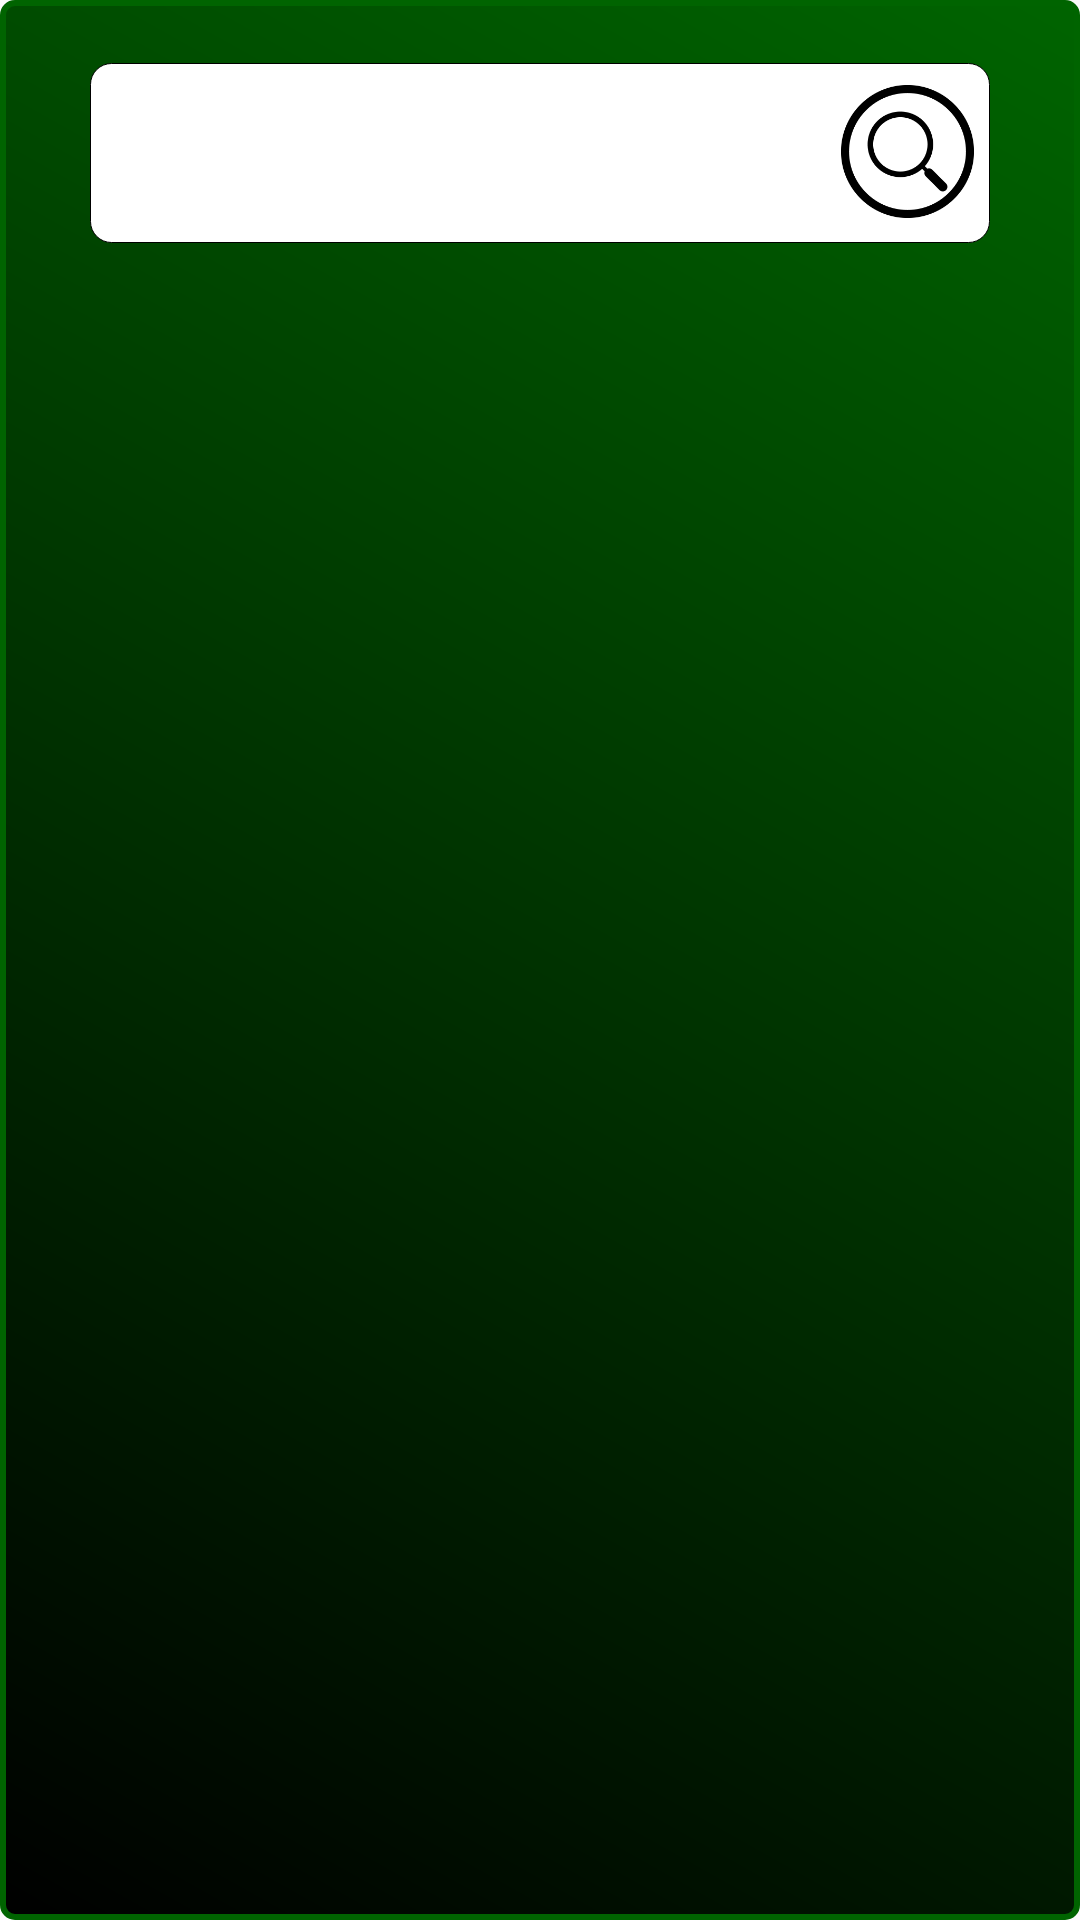

Icon bounding boxes for this 1080x1920 phone screenshot, format detection(x1, y1, x2, y2):
search: detection(841, 85, 974, 218)
